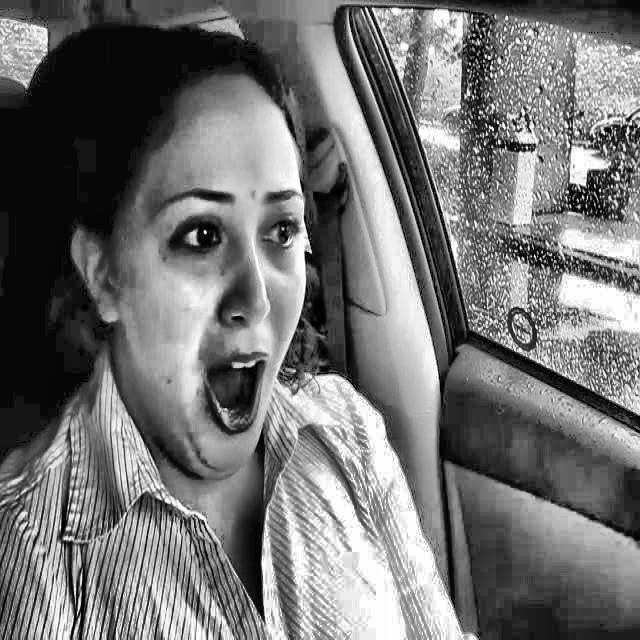open_eyes: (158, 207, 233, 263), (249, 206, 312, 263)
open_mouth: (180, 337, 278, 453)
